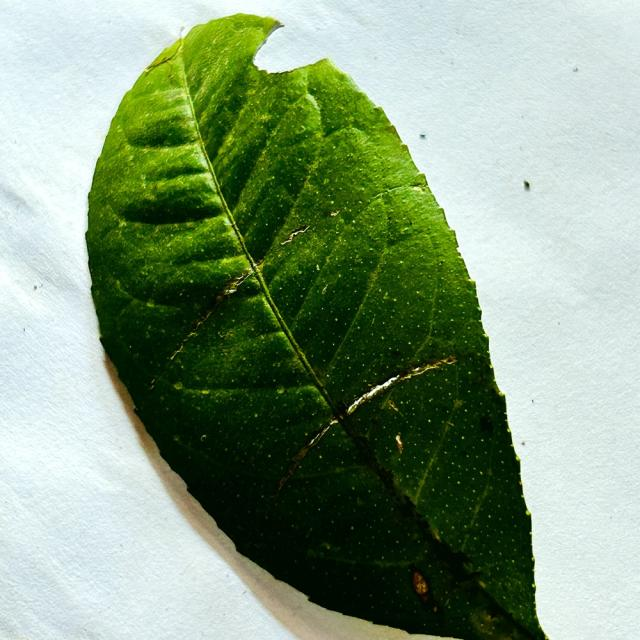Deficiency Leaf: (320, 375, 415, 431), (255, 24, 327, 72)
Lemon: (86, 14, 545, 639)
